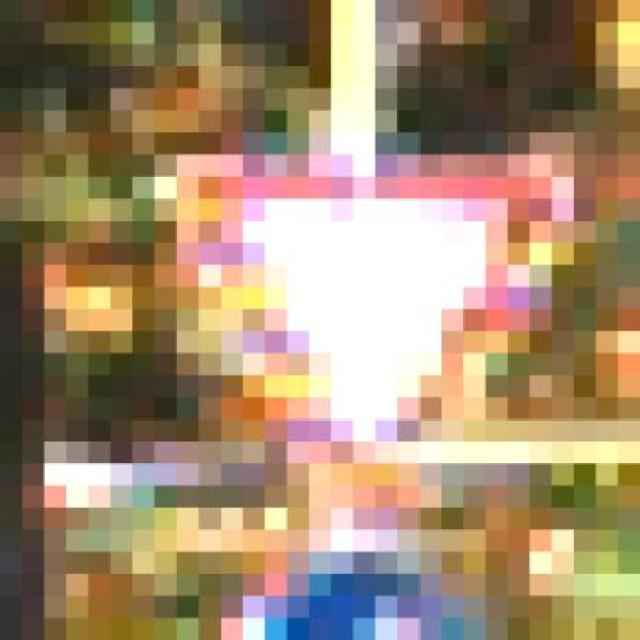Give Way: (111, 88, 574, 530)
